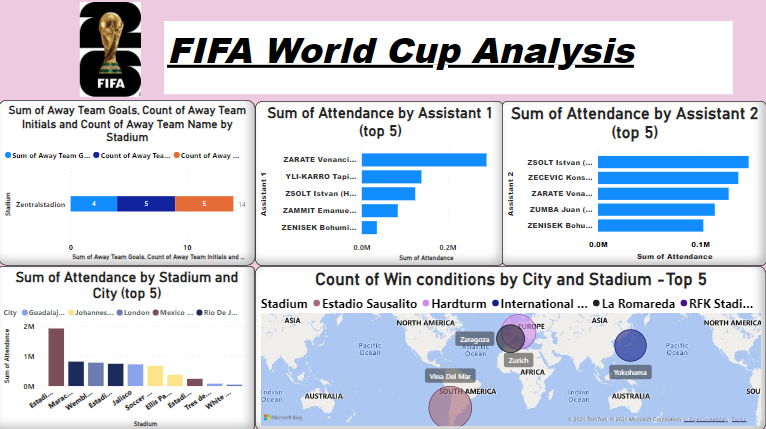

The dashboard page shown, as its layout file describes it:
{"tool":"powerbi","page":{"name":"fifa world cup analysis report-1","canvas":[1280,720],"ordinal":0},"visuals":[{"type":"columnChart","title":"Sum of Attendance by Stadium and City (top 5)","fields":{"Series":["WorldCupMatches.City"],"Y":["WorldCupMatches.Attendance"],"Category":["WorldCupMatches.Stadium"]},"box":[0,445,427.7,275],"z":0},{"type":"clusteredBarChart","title":"Sum of Attendance by Assistant 1 (top 5)","fields":{"Category":["WorldCupMatches.Assistant 1"],"Y":["WorldCupMatches.Attendance"]},"box":[427.7,169.9,416.2,275],"z":1000},{"type":"barChart","title":"Sum of Attendance by Assistant 2 (top 5)","fields":{"Category":["WorldCupMatches.Assistant 2"],"Y":["WorldCupMatches.Attendance"]},"box":[839.5,169.9,440.6,275],"z":2000},{"type":"barChart","fields":{"Category":["WorldCupMatches.Stadium"],"Y":["WorldCupMatches.Away Team Goals","WorldCupMatches.Away Team Initials","WorldCupMatches.Away Team Name"]},"box":[0,168.5,429.1,276.5],"z":3000},{"type":"map","title":"Count of Win conditions by City and Stadium -Top 5","fields":{"Category":["WorldCupMatches.City"],"Series":["WorldCupMatches.Stadium"],"Size":["WorldCupMatches.Win conditions"]},"box":[427.7,445,852.5,275],"z":4000},{"type":"image","box":[97.9,0,178.6,168.5],"z":5000},{"type":"textbox","box":[276.5,36,947.5,122.4],"z":6000}]}

Visuals, with their boxes in screenshot pixels (x1, y1, x2, y2), scaled from the page's 1280x720 canvas onto the 766x429 screenshot:
"Sum of Attendance by Stadium and City (top 5)" columnChart: l=0, t=265, r=256, b=428
"Sum of Attendance by Assistant 1 (top 5)" clusteredBarChart: l=256, t=101, r=505, b=265
"Sum of Attendance by Assistant 2 (top 5)" barChart: l=502, t=101, r=765, b=265
barChart - WorldCupMatches.Stadium x WorldCupMatches.Away Team Goals: l=0, t=100, r=257, b=265
"Count of Win conditions by City and Stadium -Top 5" map: l=256, t=265, r=765, b=428
image: l=59, t=0, r=165, b=100
textbox: l=165, t=21, r=732, b=94
